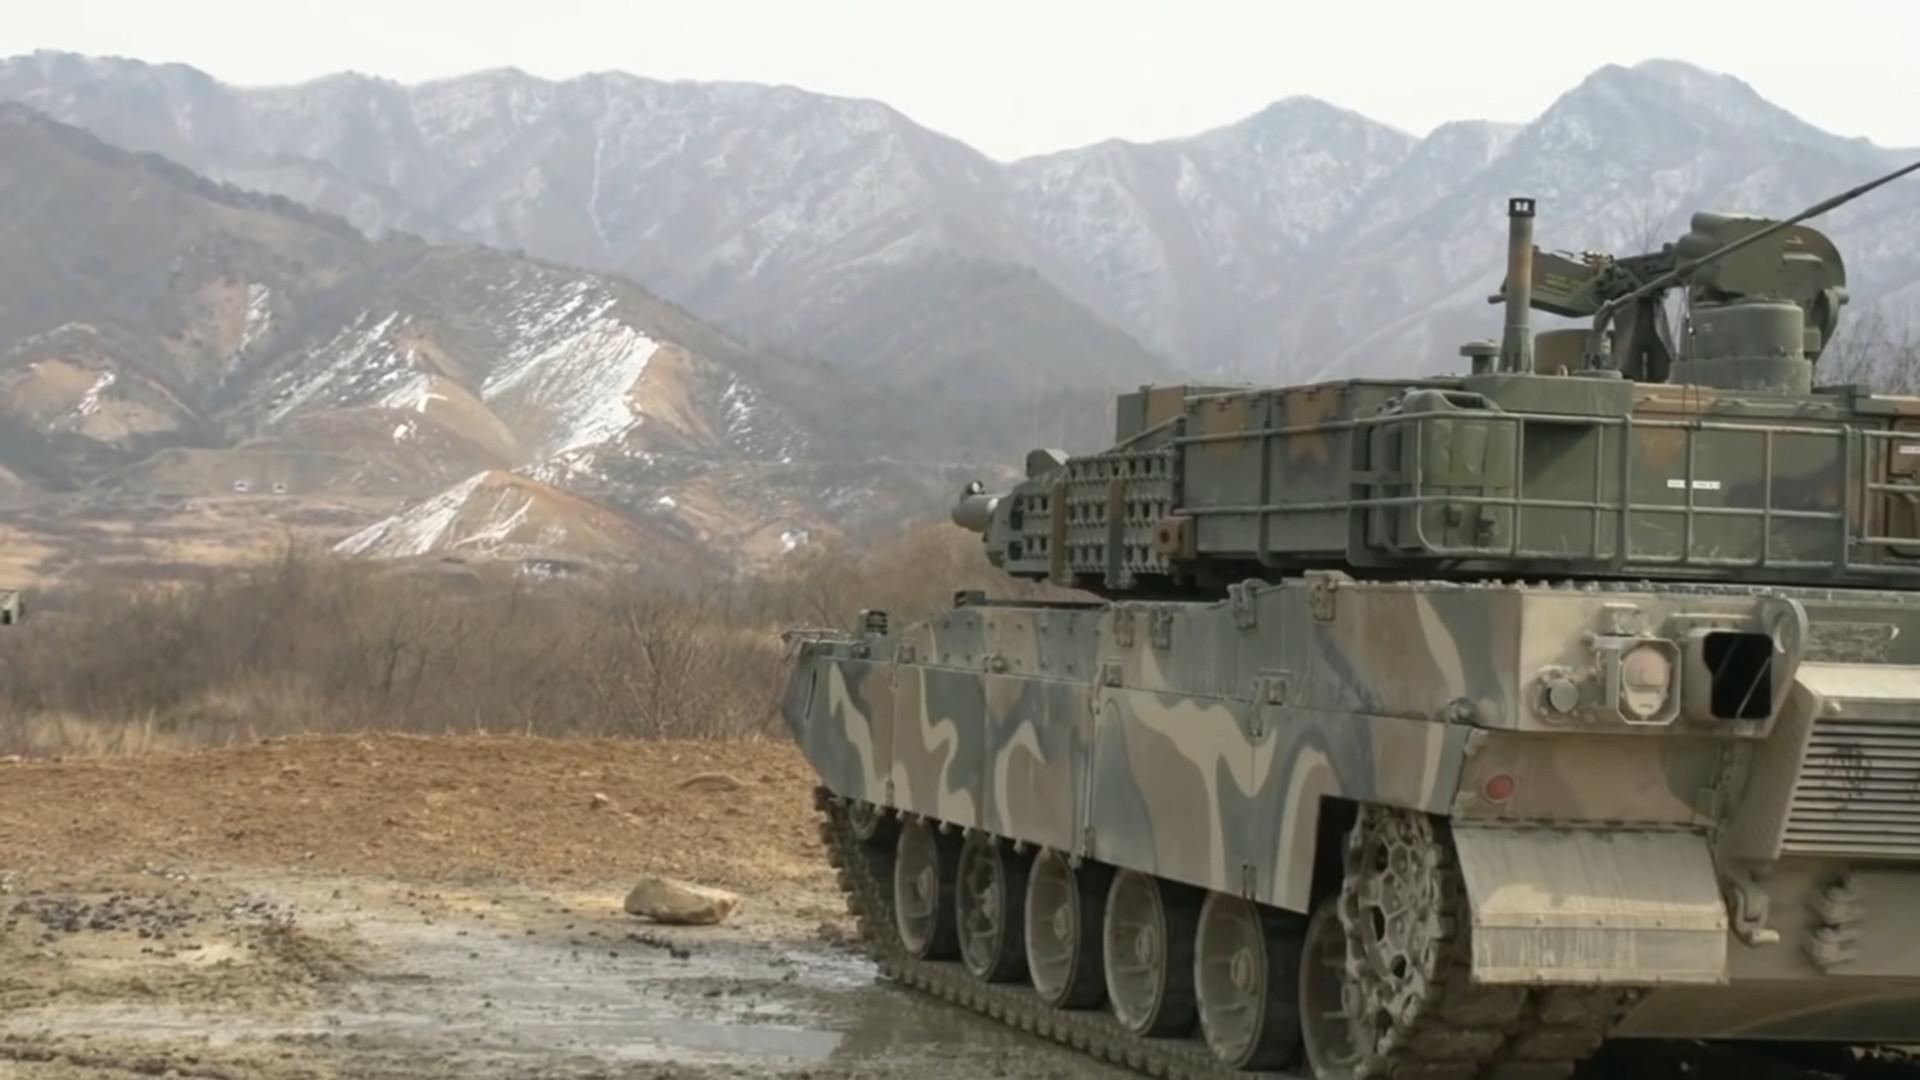tank: (773, 195, 1919, 1079)
